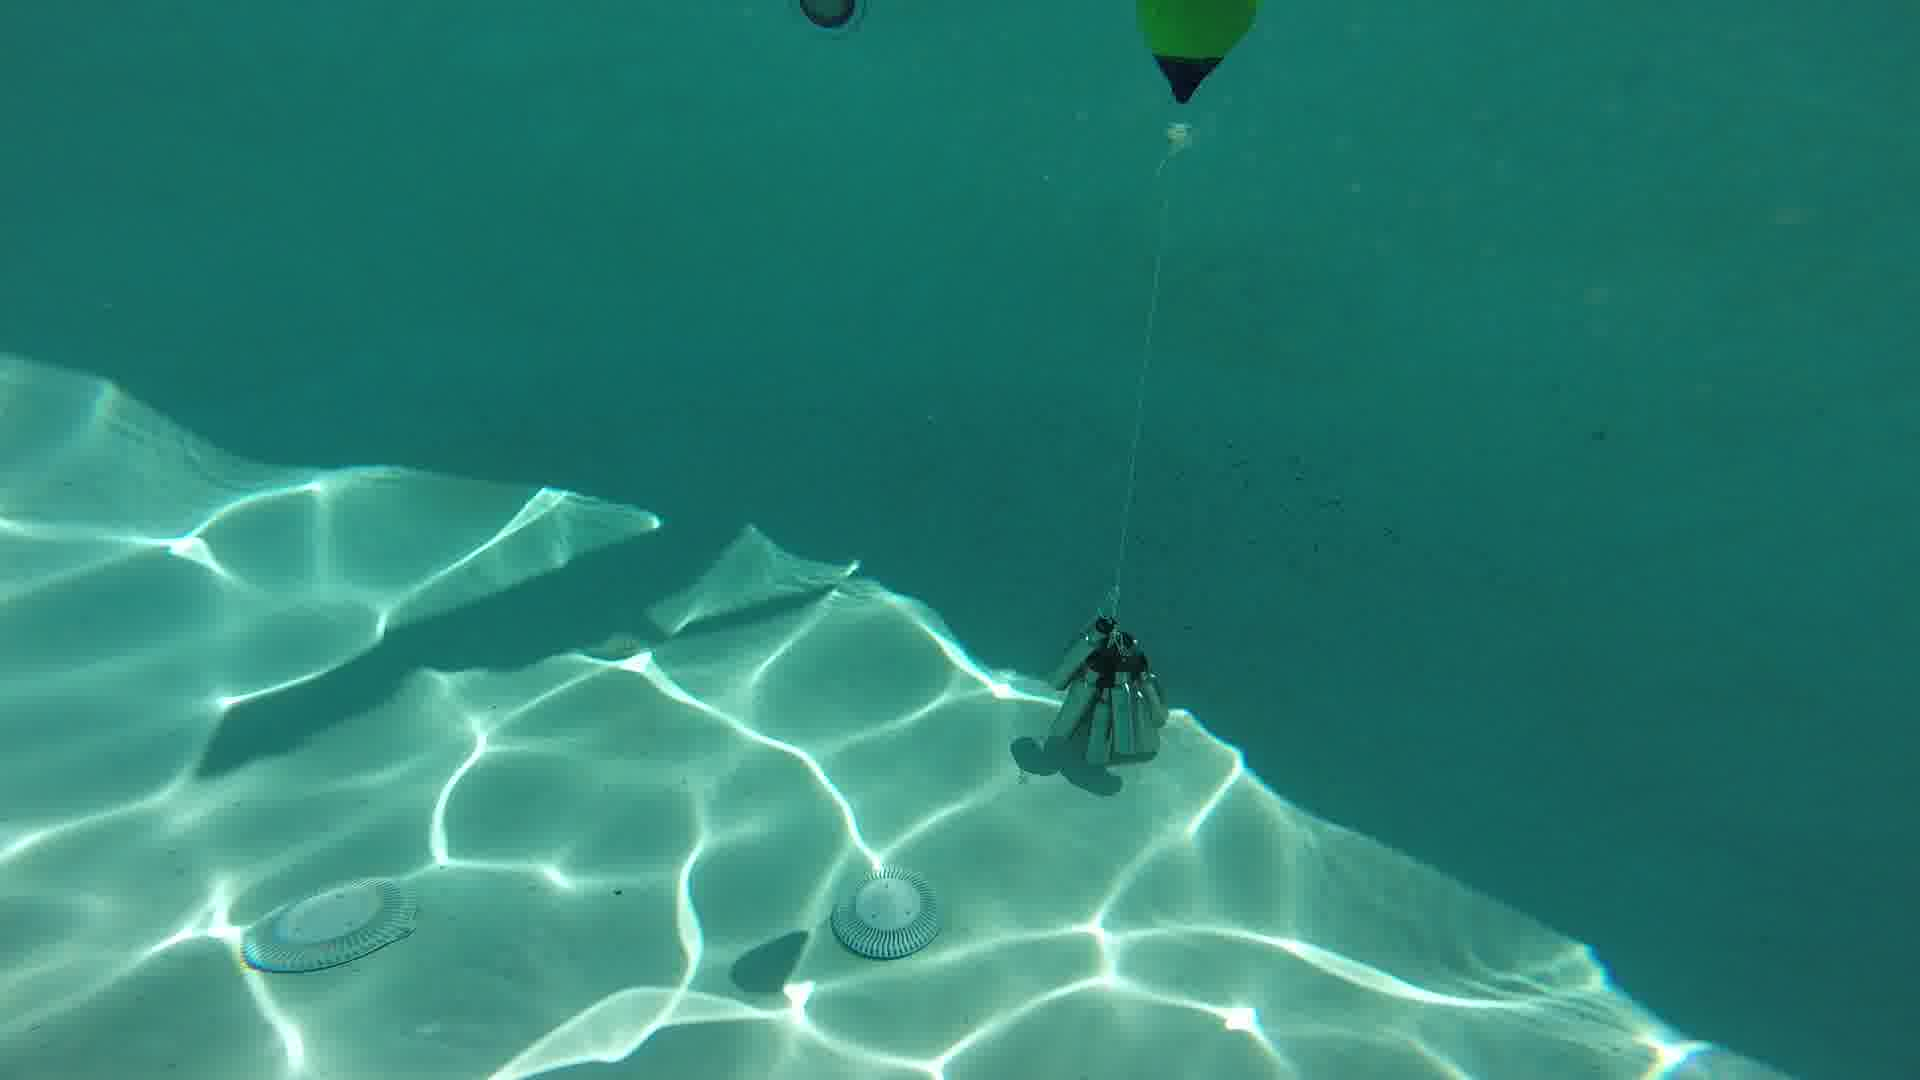yellow_buoy: (1131, 1, 1265, 156)
